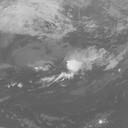cyclone: (41, 49, 93, 85)
